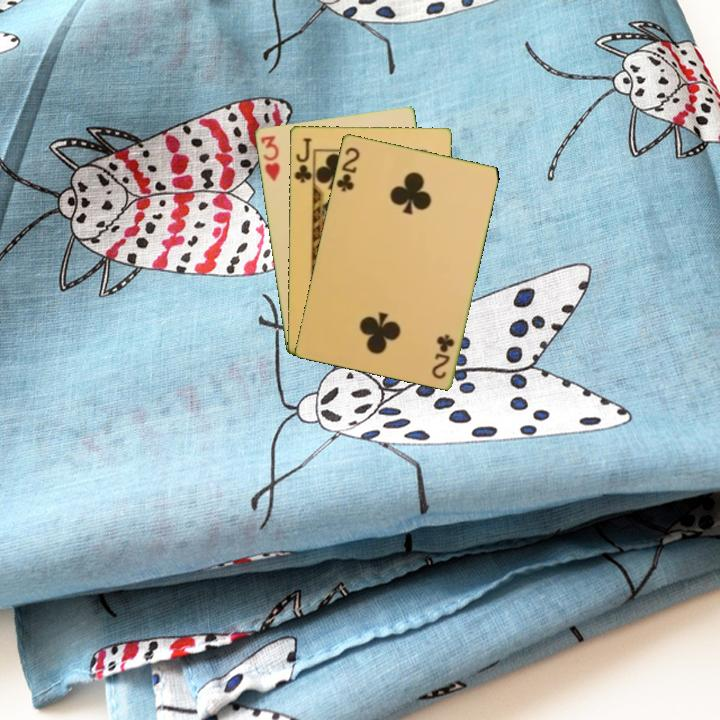2c: (333, 143, 362, 195), (428, 330, 457, 382)
3h: (257, 132, 283, 184)
Jc: (290, 134, 315, 188)
